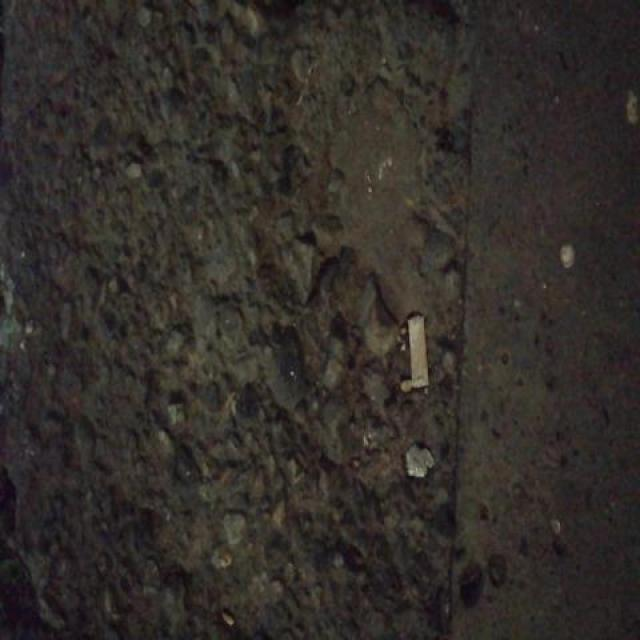non-organic waste: (405, 310, 432, 394)
